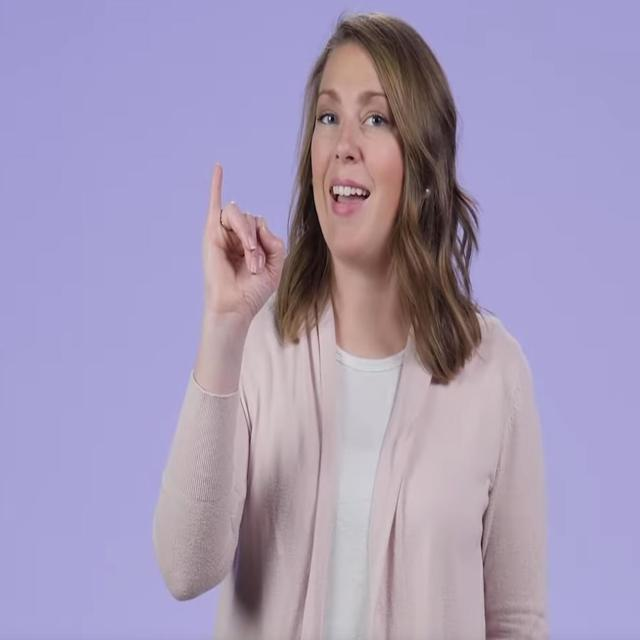I: (200, 158, 288, 318)
